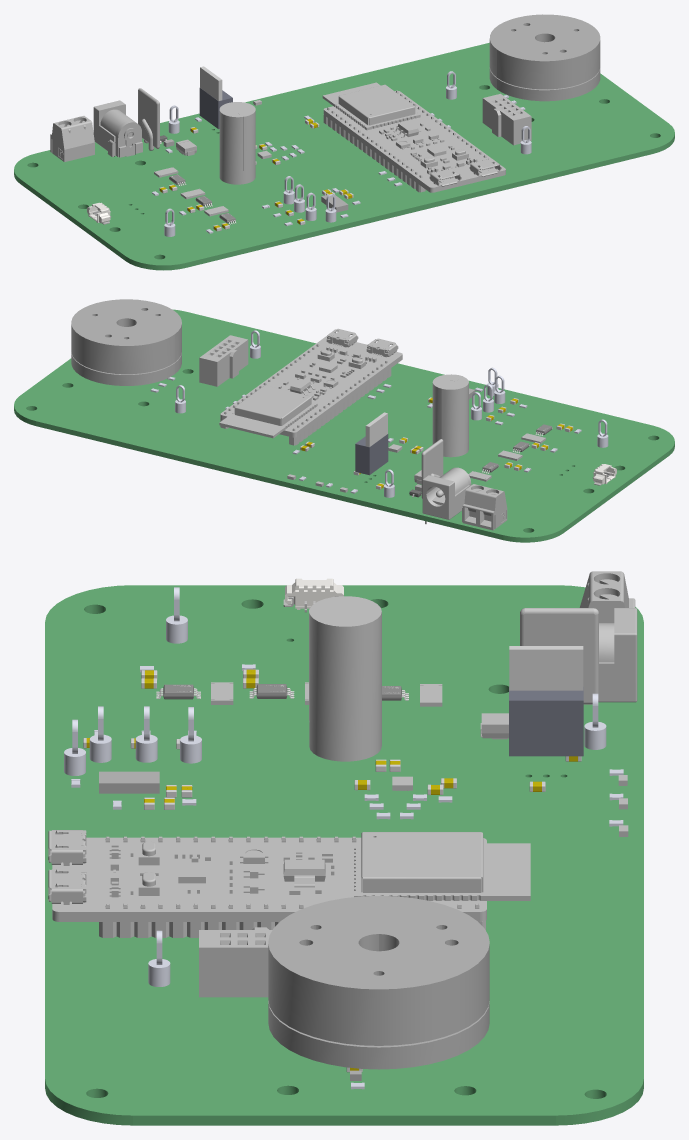
Rendered from hapticknob-pcb.glb.
3 views of the same model, one above another, from view 1: azimuth 30°, elevation 25°; view 2: azimuth 150°, elevation 25°; view 3: azimuth 270°, elevation 25° (orthographic). The views are drawn at different scales.
Visible parts, largest first — view 1: empty_2, empty_663, empty_239, empty_642, empty_285, empty_18, empty_27, empty_662, empty_507, empty_236, empty_237, empty_32 (+6 smaller); view 2: empty_2, empty_663, empty_239, empty_642, empty_285, empty_18, empty_507, empty_27, empty_662, empty_32, empty_284, empty_237 (+2 smaller); view 3: empty_2, empty_663, empty_239, empty_642, empty_285, empty_662, empty_32, empty_18, empty_236, empty_507, empty_33, empty_284 (+9 smaller).
Boxes of the visible parts, x1,y1,x2,y2 form: empty_2: [14, 42, 674, 270]; empty_663: [489, 14, 600, 89]; empty_239: [323, 91, 505, 192]; empty_642: [219, 102, 255, 184]; empty_285: [338, 84, 415, 125]; empty_18: [482, 93, 531, 145]; empty_27: [50, 116, 94, 161]; empty_662: [489, 68, 600, 101]; empty_507: [93, 100, 133, 155]; empty_236: [138, 88, 159, 150]; empty_237: [323, 115, 425, 192]; empty_32: [199, 88, 232, 129]; empty_2: [14, 309, 674, 542]; empty_663: [71, 299, 181, 374]; empty_239: [220, 336, 402, 437]; empty_642: [432, 374, 468, 457]; empty_285: [234, 385, 311, 425]; empty_18: [199, 335, 248, 386]; empty_507: [422, 469, 470, 519]; empty_27: [462, 484, 507, 530]; empty_662: [71, 353, 181, 385]; empty_32: [355, 434, 388, 475]; empty_284: [219, 402, 317, 438]; empty_237: [289, 368, 391, 445]; empty_2: [45, 585, 643, 1125]; empty_663: [268, 896, 489, 1045]; empty_239: [52, 837, 486, 921]; empty_642: [309, 596, 381, 761]; empty_285: [361, 832, 483, 892]; empty_662: [268, 1001, 489, 1069]; empty_32: [509, 687, 583, 756]; empty_18: [199, 927, 272, 997]; empty_236: [520, 608, 598, 704]; empty_507: [598, 608, 637, 702]; empty_33: [509, 646, 583, 690]; empty_284: [354, 843, 530, 900].
Size of the model in its own units: 0.1812 by 0.0291 by 0.0865.
